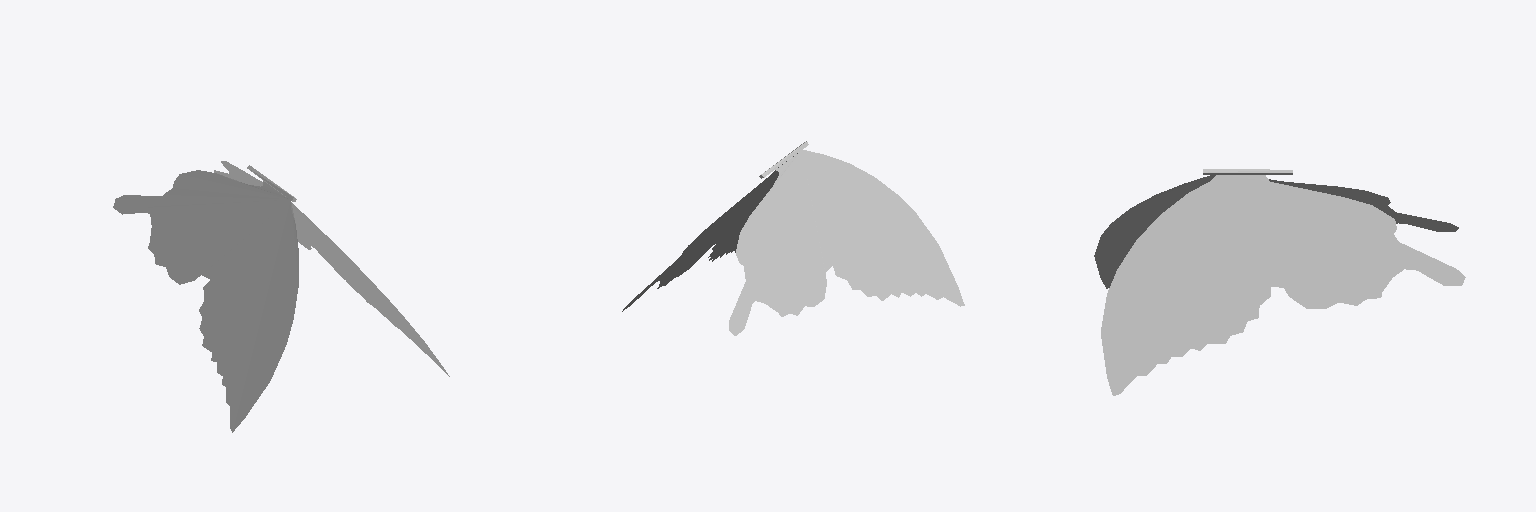
Rendered from mob_13.obj.
3 views of the same model, side by side, from view 1: azimuth 30°, elevation 25°; view 2: azimuth 150°, elevation 25°; view 3: azimuth 270°, elevation 25° (orthographic).
Parts seen in each view (by area): view 1: Cube; view 2: Cube; view 3: Cube.
Part boxes in pixels (left/top/right/bottom): Cube: left=113, top=161, right=449, bottom=432; Cube: left=622, top=141, right=964, bottom=335; Cube: left=1094, top=169, right=1465, bottom=395.
Bounding box in the file's own units: 1.34 × 1.01 × 1.96.